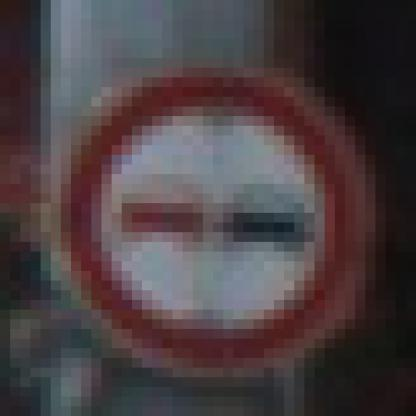No Overtaking: (52, 59, 366, 369)
